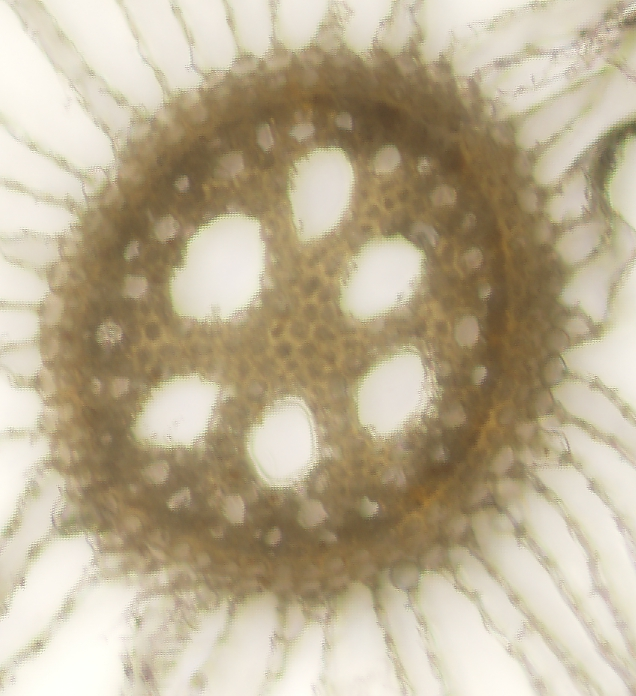lm: (169, 212, 266, 322), (337, 235, 427, 321), (356, 348, 437, 439), (243, 395, 319, 488), (130, 374, 221, 448), (288, 145, 354, 243)
